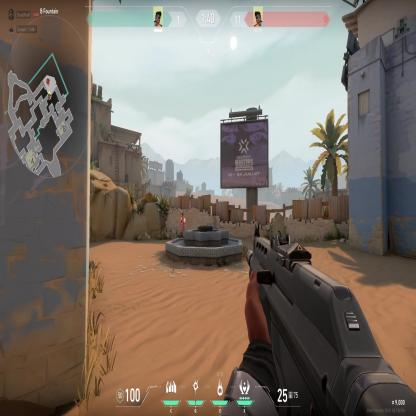enemy: (180, 212, 186, 229)
